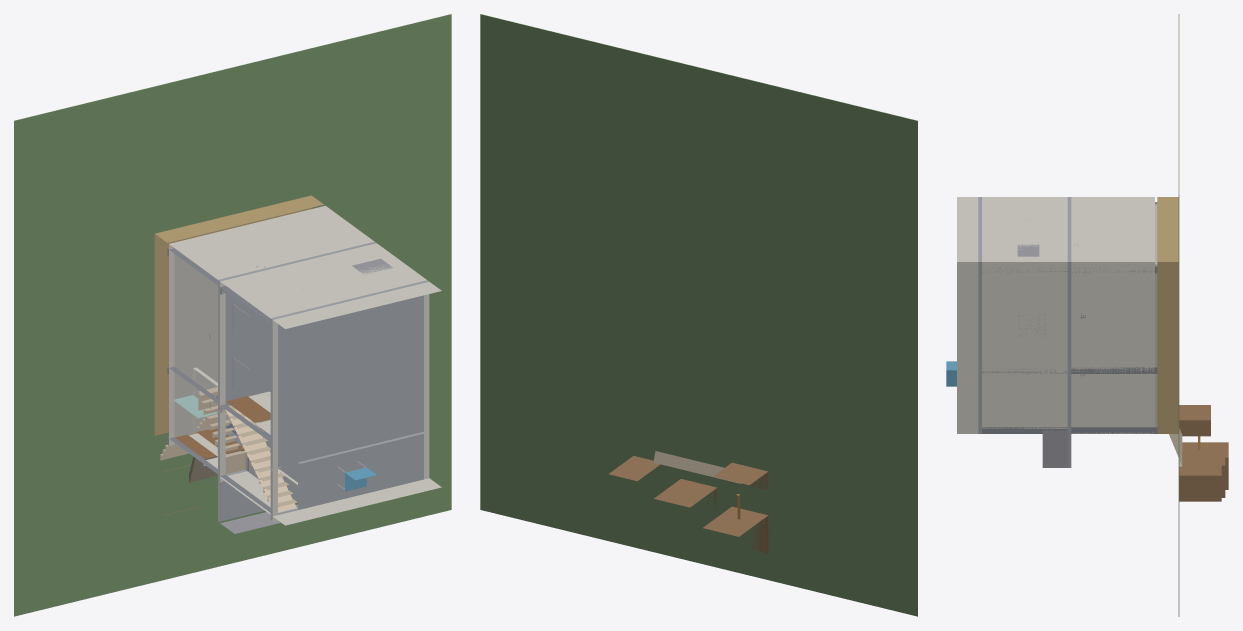
File: ground-floor.glb
3 views of the same model, side by side, from view 1: azimuth 30°, elevation 25°; view 2: azimuth 150°, elevation 25°; view 3: azimuth 270°, elevation 25° (orthographic). The views are drawn at different scales.
Visible parts, largest first — view 1: ground_plane, roof_slab_1f_back, wall_back, wall_1f_back, floor_slab, roof_slab_1f_front_right, plinth, roof_slab_back, parapet_front, parapet_back, wall_1f_left, stair_slope_1f (+9 smaller); view 2: ground_plane, bw_soak_pit, ww_soak_pit, septic_tank, ramp, gw_soak_pit; view 3: wall_1f_right, wall_right, wall_back, wall_1f_back, plinth, parapet_right, gw_soak_pit, parapet_back, ground_plane, septic_tank, railing_terrace_right, roof_slab_back (+8 smaller).
Boxes of the visible parts, box(x1,y1,x2,y2) form: ground_plane: box(14, 14, 451, 616); roof_slab_1f_back: box(270, 280, 428, 468); wall_back: box(169, 205, 374, 279); wall_1f_back: box(220, 243, 426, 316); floor_slab: box(174, 248, 231, 437); roof_slab_1f_front_right: box(298, 431, 423, 509); plinth: box(154, 195, 323, 435); roof_slab_back: box(218, 241, 376, 411); parapet_front: box(272, 478, 441, 525); parapet_back: box(272, 281, 441, 328); wall_1f_left: box(220, 280, 275, 477); stair_slope_1f: box(226, 405, 296, 511); ground_plane: box(480, 14, 917, 616); bw_soak_pit: box(703, 506, 768, 553); ww_soak_pit: box(654, 479, 717, 515); septic_tank: box(713, 462, 768, 489); ramp: box(653, 451, 741, 483); gw_soak_pit: box(608, 455, 660, 485); wall_1f_right: box(982, 260, 1067, 428); wall_right: box(1071, 261, 1154, 433); wall_back: box(1071, 197, 1154, 266); wall_1f_back: box(982, 197, 1067, 265); plinth: box(1157, 197, 1178, 433); parapet_right: box(957, 261, 978, 428); gw_soak_pit: box(1179, 463, 1221, 501); parapet_back: box(957, 197, 978, 266); ground_plane: box(1178, 14, 1179, 616); septic_tank: box(1179, 405, 1210, 436); railing_terrace_right: box(1042, 429, 1067, 467); roof_slab_back: box(1067, 197, 1071, 373).
Size of the model in its own units: 18.29 by 19.81 by 12.04.
